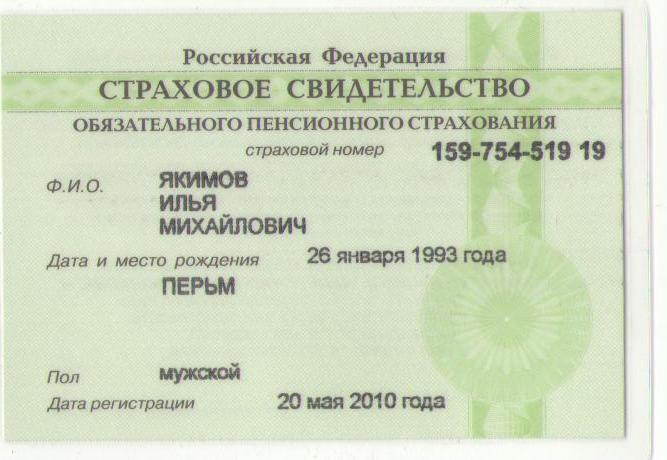text: (305, 242, 512, 270), (426, 137, 610, 162), (152, 214, 314, 236), (274, 392, 456, 411), (151, 271, 247, 305), (152, 165, 260, 192), (146, 191, 239, 213), (155, 361, 246, 383)
